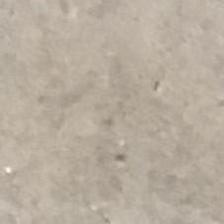Non_Crack: (23, 25, 223, 224)
